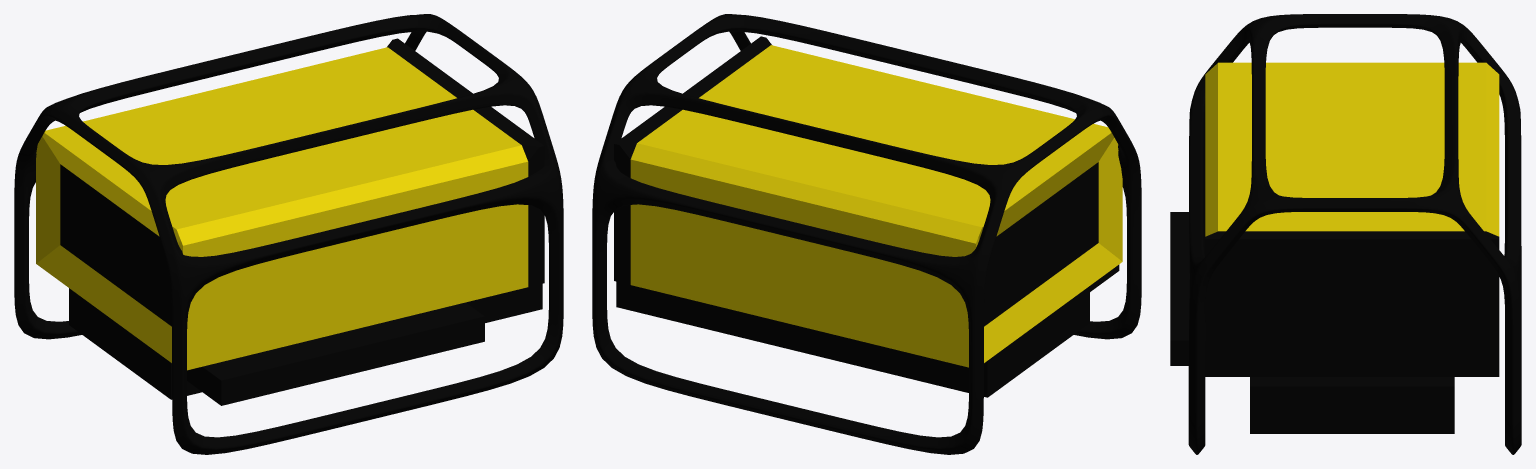
Rendered from generator.glb.
The picture shows the model from 3 angles, left to right: view 1: azimuth 30°, elevation 25°; view 2: azimuth 150°, elevation 25°; view 3: azimuth 270°, elevation 25°; orthographic projection.
Parts seen in each view (by area): view 1: Cube.001, Cube; view 2: Cube.001, Cube; view 3: Cube.001, Cube.
Part boxes in pixels (<box>): Cube.001: <box>36,38,544,405</box>; Cube: <box>14,14,563,454</box>; Cube.001: <box>614,36,1122,397</box>; Cube: <box>592,14,1141,454</box>; Cube.001: <box>1170,62,1499,433</box>; Cube: <box>1188,14,1521,454</box>.
Bounding box in the file's own units: 2.9 × 1.9 × 2.22.
